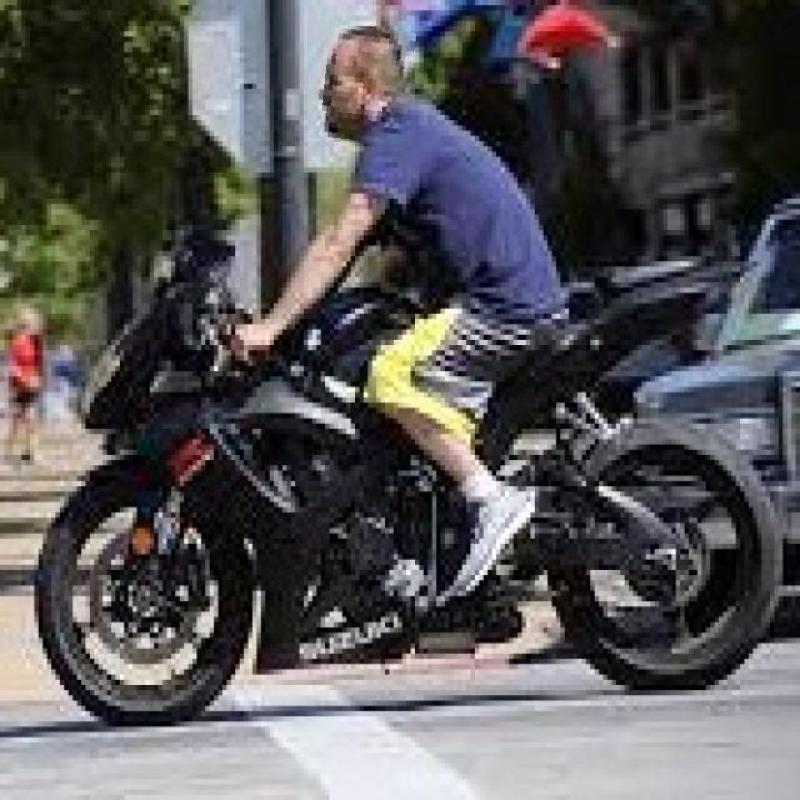nohelmet: (312, 26, 414, 146)
